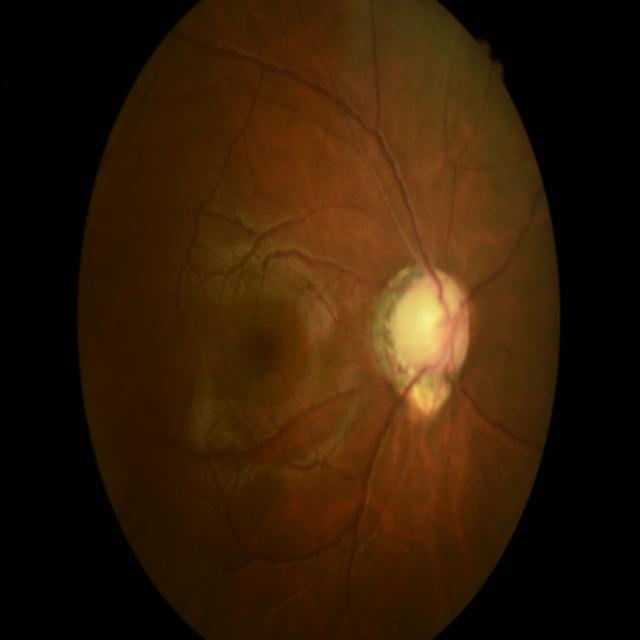cup: (398, 281, 462, 367)
disk: (390, 269, 470, 374)
